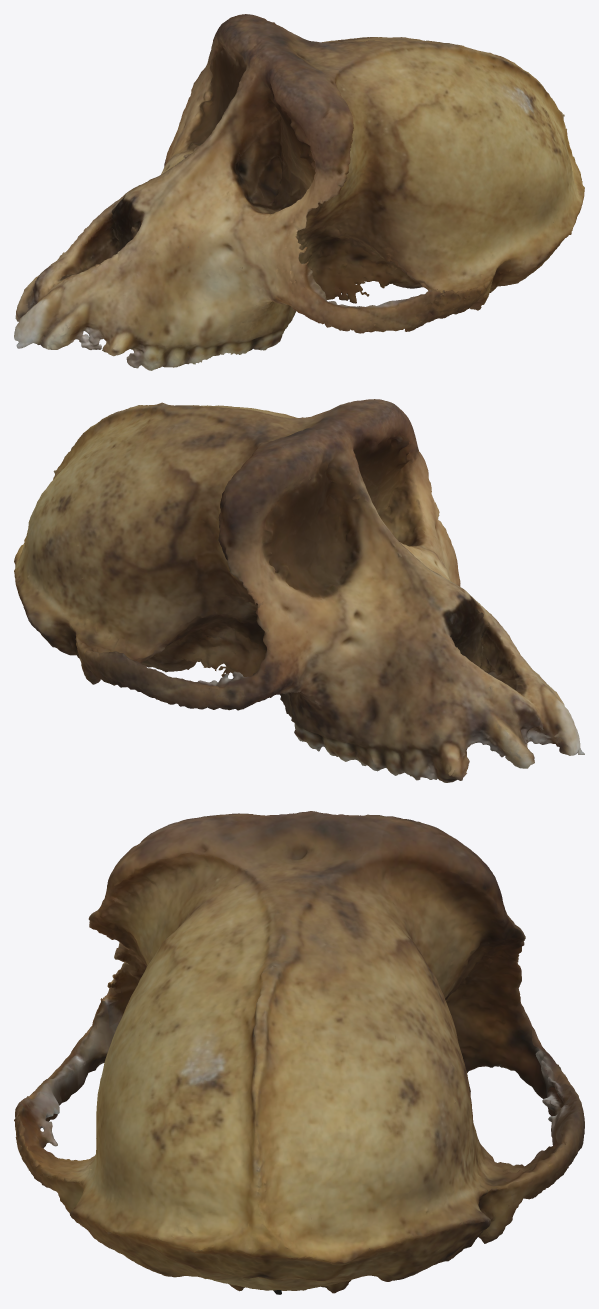
Rendered from fosil__tengkorak_macaca.glb.
The picture shows the model from 3 angles, top to bottom: view 1: azimuth 30°, elevation 25°; view 2: azimuth 150°, elevation 25°; view 3: azimuth 270°, elevation 25°; orthographic projection. The views are drawn at different scales.
Parts seen in each view (by area): view 1: Object_2, Object_3; view 2: Object_2, Object_3; view 3: Object_3, Object_2.
Boxes of the visible parts, x1,y1,x2,y2 form: Object_2: [14, 17, 537, 370]; Object_3: [52, 14, 584, 354]; Object_2: [23, 406, 584, 782]; Object_3: [14, 399, 516, 761]; Object_3: [14, 811, 584, 1294]; Object_2: [25, 812, 584, 1241].
Size of the model in its own units: 3.76 by 1.81 by 2.49.
1 material, 1 textured.
